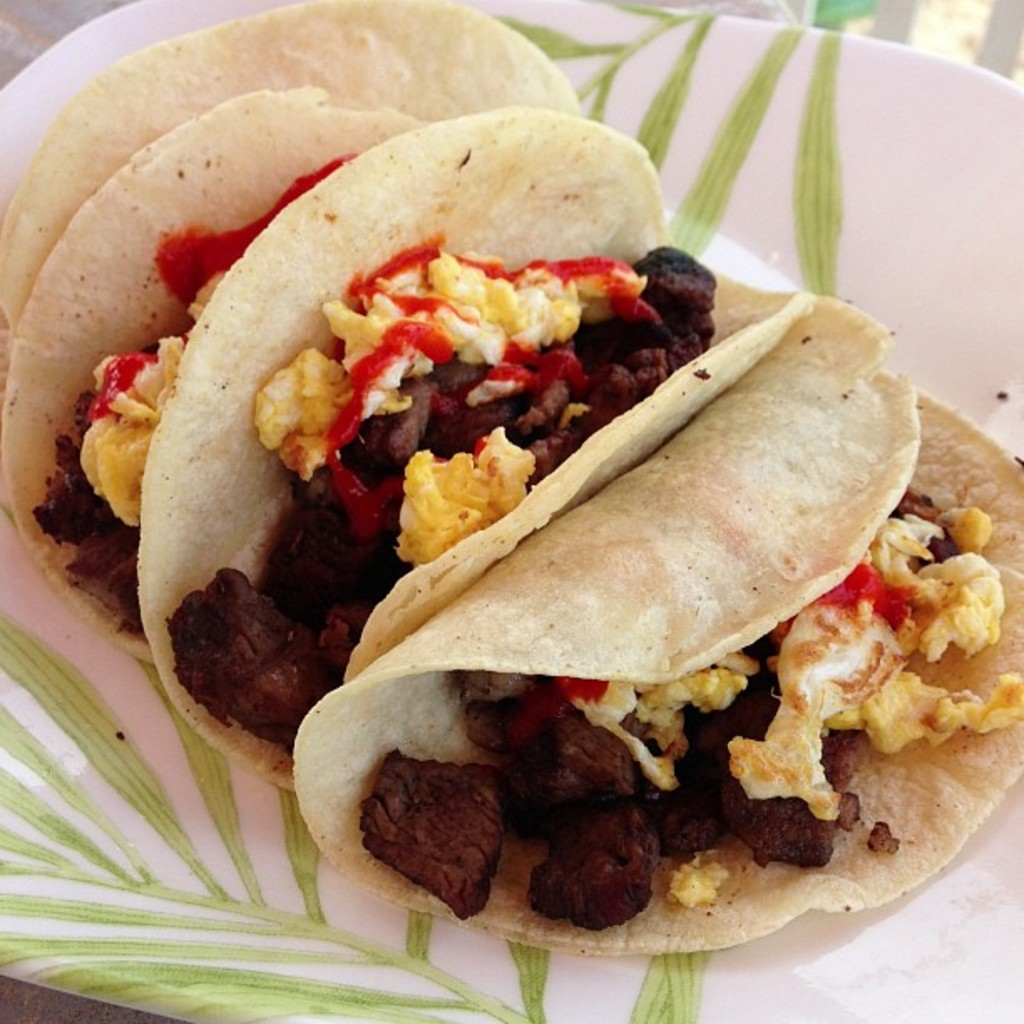taco: (288, 291, 1022, 954), (127, 109, 827, 781), (0, 72, 458, 668), (0, 0, 577, 370)
